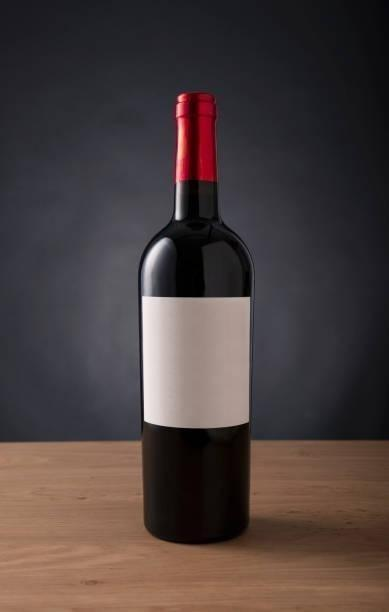bottle-glass: (133, 88, 260, 548)
